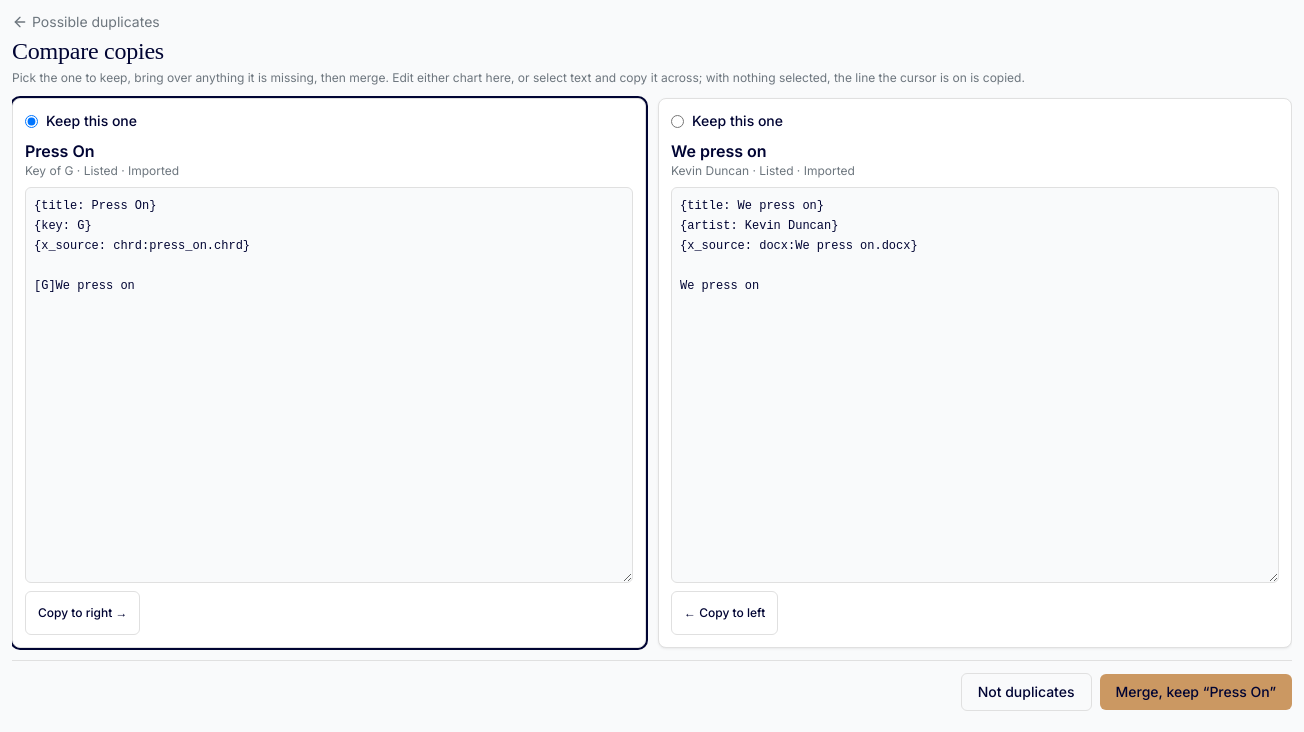
Test: CompareSongsPage › copies a selection from one chart into the other at its cursor
This screenshot has width=1304, height=732.
Click the button "Copy to right →". click: (83, 613)
box: 25,591 -> 140,635
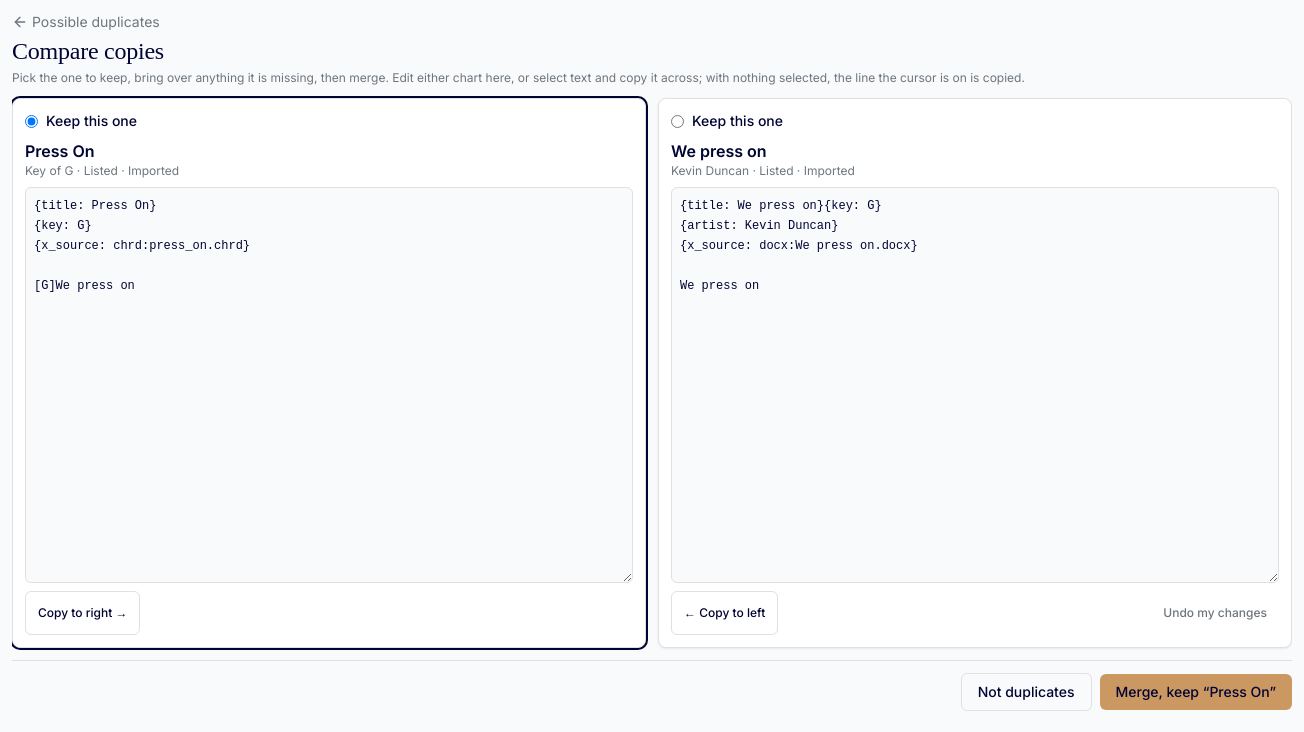
Now the button "Undo my changes" is shown, box 1151,591 -> 1279,635
